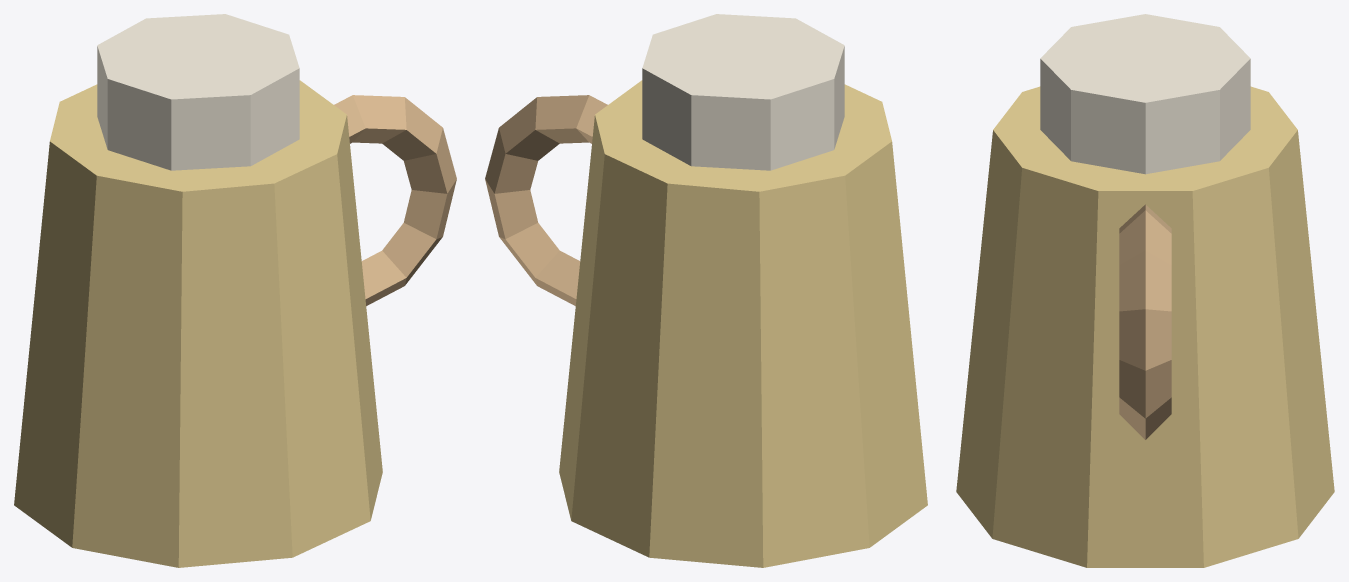
The model's file is cargo_brew.fbx.
The picture shows the model from 3 angles, left to right: view 1: azimuth 30°, elevation 25°; view 2: azimuth 150°, elevation 25°; view 3: azimuth 270°, elevation 25°; orthographic projection.
Parts seen in each view (by area): view 1: cargo_brew_mesh; view 2: cargo_brew_mesh; view 3: cargo_brew_mesh.
Boxes of the visible parts, bbox=[...] form: cargo_brew_mesh: bbox=[14, 14, 456, 567]; cargo_brew_mesh: bbox=[485, 14, 927, 567]; cargo_brew_mesh: bbox=[956, 14, 1334, 567].
Size of the model in its own units: 0.4562 by 0.455 by 0.36.
